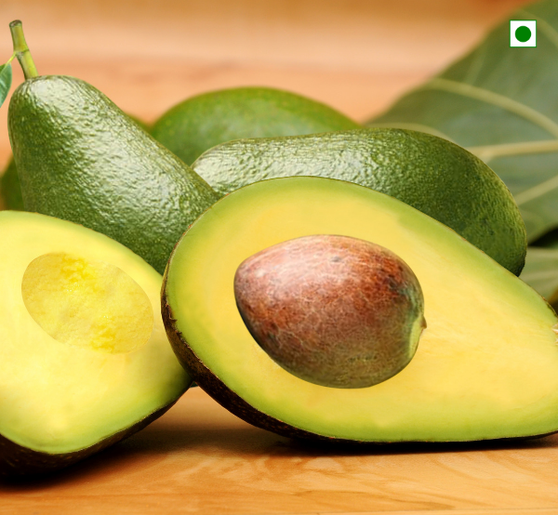avocado: (15, 74, 203, 248)
